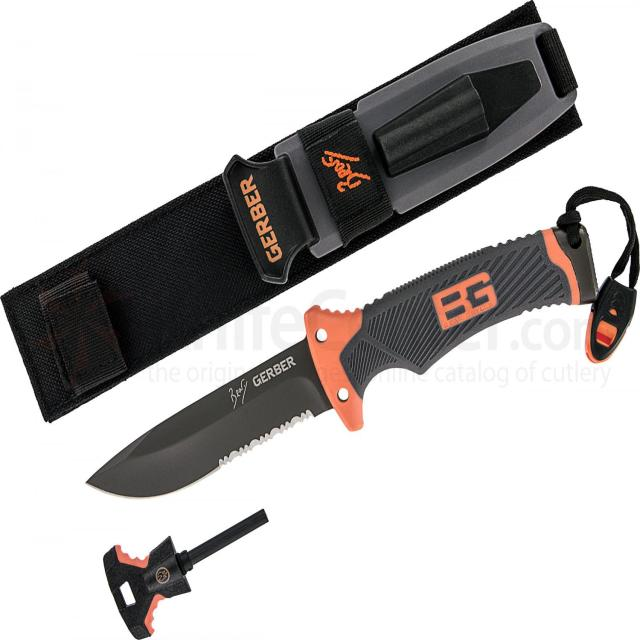knife: (81, 200, 611, 514)
